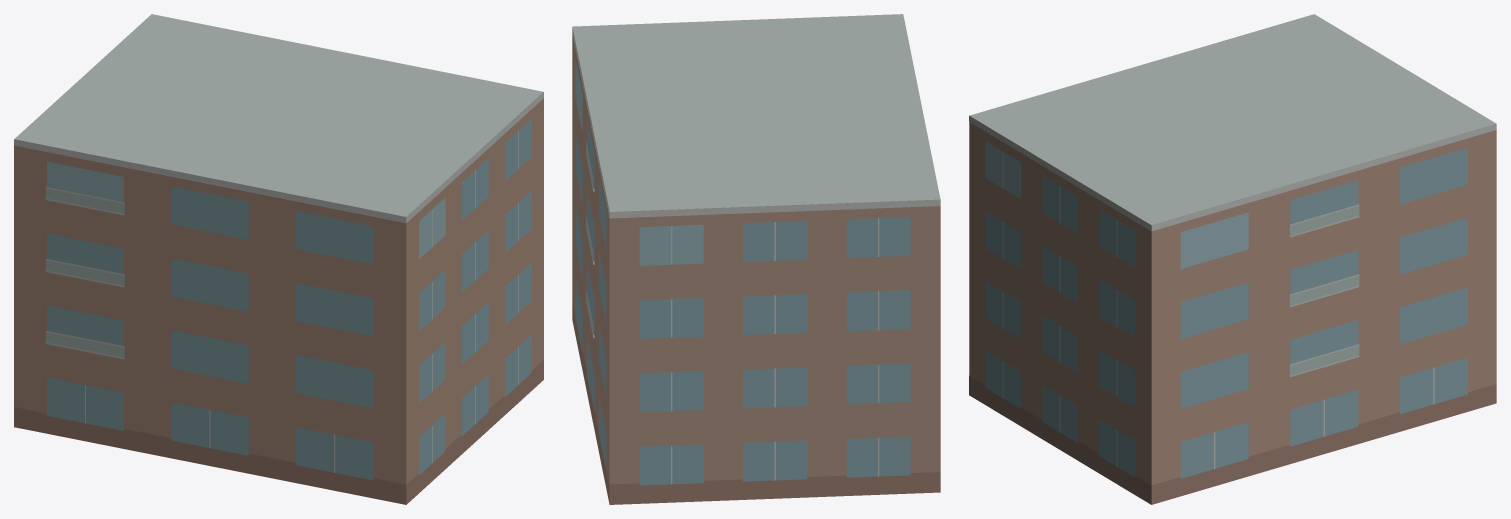
Rendered from survey-upis-32810725.glb.
3 renders of one model, left to right at view 1: azimuth 30°, elevation 25°; view 2: azimuth 150°, elevation 25°; view 3: azimuth 270°, elevation 25°, orthographic. The views are drawn at different scales.
Visible parts, largest first — view 1: survey-upis-32810725.tmp; view 2: survey-upis-32810725.tmp; view 3: survey-upis-32810725.tmp.
Boxes of the visible parts, x1,y1,x2,y2 form: survey-upis-32810725.tmp: (14,14,543,504); survey-upis-32810725.tmp: (572,14,940,504); survey-upis-32810725.tmp: (969,14,1496,504).
Size of the model in its own units: 17.83 by 11 by 18.82.
